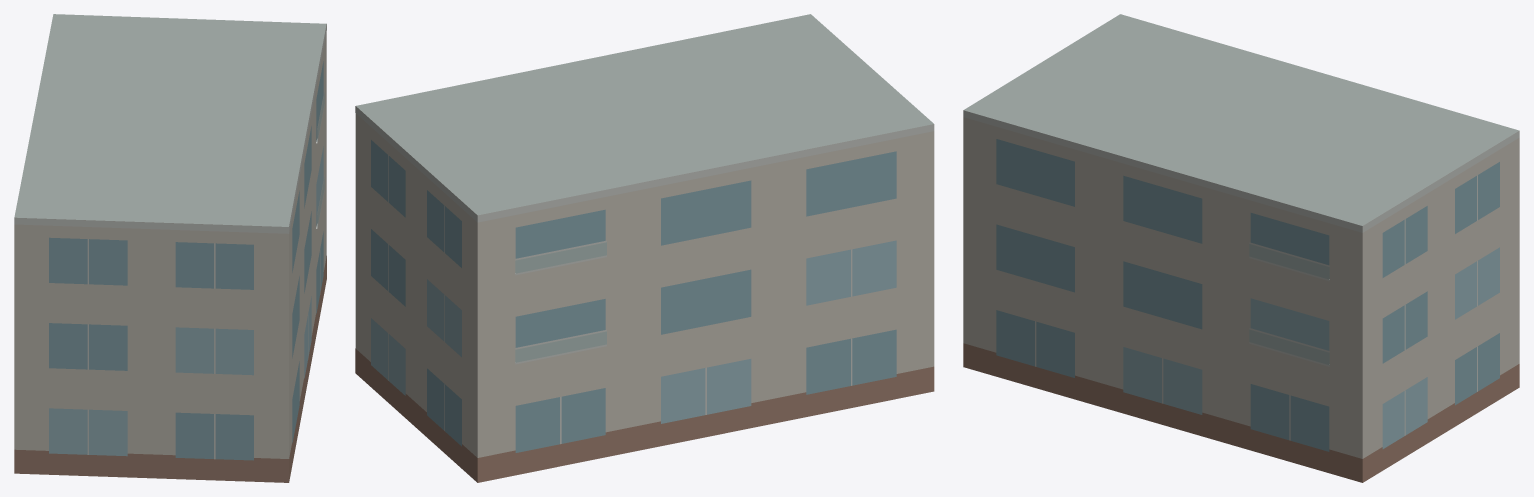
File: survey-upis-32704752.glb
3 views of the same model, side by side, from view 1: azimuth 30°, elevation 25°; view 2: azimuth 150°, elevation 25°; view 3: azimuth 270°, elevation 25° (orthographic). The views are drawn at different scales.
Visible parts, largest first — view 1: survey-upis-32704752.tmp; view 2: survey-upis-32704752.tmp; view 3: survey-upis-32704752.tmp.
Boxes of the visible parts, bbox=[...] form: survey-upis-32704752.tmp: bbox=[14, 14, 326, 482]; survey-upis-32704752.tmp: bbox=[355, 14, 934, 482]; survey-upis-32704752.tmp: bbox=[963, 14, 1519, 482].
Bounding box in the file's own units: 16.22 × 9.15 × 17.98.
